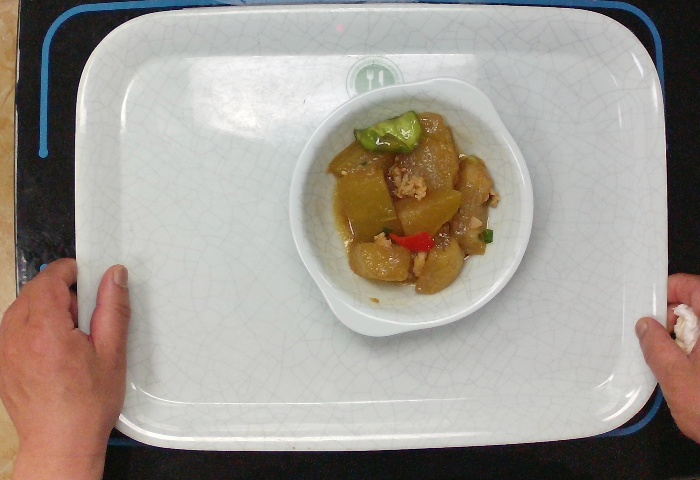JYsf-Shuang_Er_Wan: (286, 72, 539, 343)
